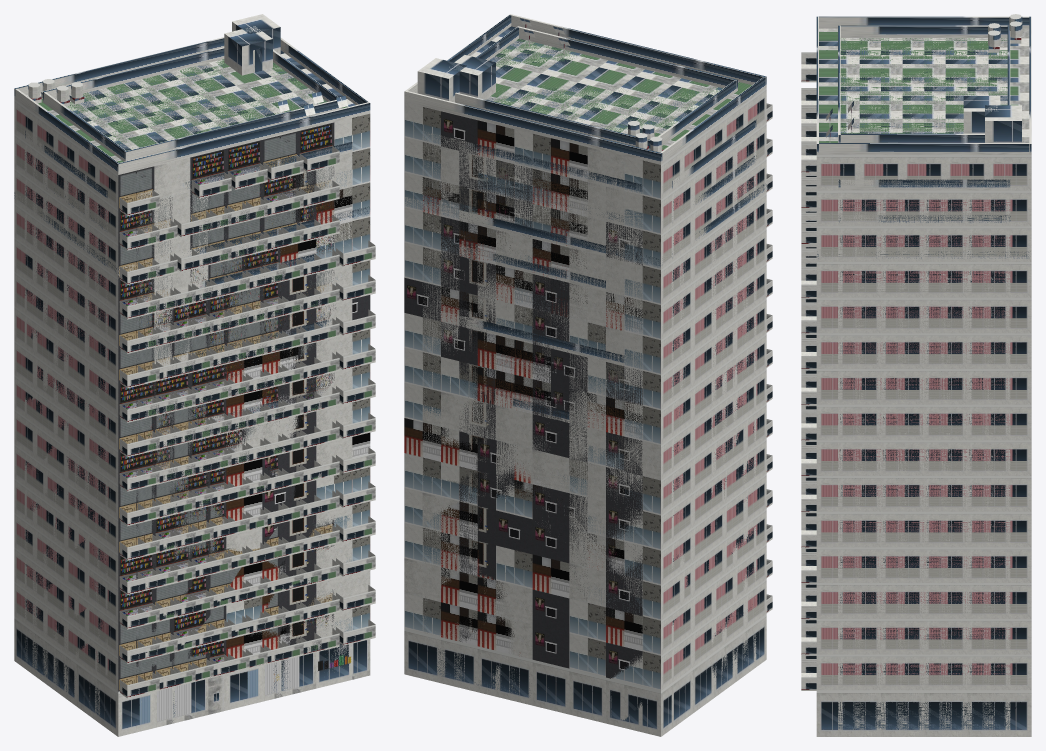
The picture shows the model from 3 angles, left to right: view 1: azimuth 30°, elevation 25°; view 2: azimuth 150°, elevation 25°; view 3: azimuth 270°, elevation 25°; orthographic projection. The views are drawn at different scales.
Parts seen in each view (by area): view 1: Modern_7x5_f15_v1, Modern_7x4_f14_v1, Modern_5x5_f9_v1, Modern_6x5_f14_v0, Modern_4x5_f11_v0, Modern_6x4_f15_v0, Modern_2x5_f7_v0, Modern_7x5_f12_v1, Modern_4x5_f12_v0, Modern_4x5_f14_v0, Modern_5x5_f12_v1; view 2: Modern_7x5_f15_v1, Modern_7x4_f14_v1, Modern_5x5_f9_v1, Modern_4x5_f11_v0, Modern_6x5_f14_v0, Modern_2x5_f7_v0, Modern_6x4_f15_v0, Modern_4x5_f14_v0, Modern_4x5_f12_v0, Modern_7x5_f12_v1, Modern_7x4_f13_v1; view 3: Modern_7x5_f15_v1, Modern_7x4_f14_v1, Modern_6x4_f15_v0, Modern_7x5_f12_v1, Modern_6x5_f14_v0, Modern_7x4_f13_v1.
Part boxes in pixels (bbox=[...]): Modern_7x5_f15_v1: bbox=[14, 14, 370, 736]; Modern_7x4_f14_v1: bbox=[24, 131, 107, 722]; Modern_5x5_f9_v1: bbox=[154, 320, 339, 727]; Modern_6x5_f14_v0: bbox=[136, 142, 352, 723]; Modern_4x5_f11_v0: bbox=[172, 254, 316, 723]; Modern_6x4_f15_v0: bbox=[42, 26, 341, 161]; Modern_2x5_f7_v0: bbox=[208, 400, 285, 714]; Modern_7x5_f12_v1: bbox=[14, 192, 375, 645]; Modern_4x5_f12_v0: bbox=[172, 219, 316, 297]; Modern_4x5_f14_v0: bbox=[172, 150, 316, 262]; Modern_5x5_f12_v1: bbox=[154, 216, 331, 379]; Modern_7x5_f15_v1: bbox=[404, 14, 772, 736]; Modern_7x4_f14_v1: bbox=[671, 119, 756, 728]; Modern_5x5_f9_v1: bbox=[441, 311, 624, 720]; Modern_4x5_f11_v0: bbox=[459, 245, 605, 723]; Modern_6x5_f14_v0: bbox=[422, 131, 642, 732]; Modern_2x5_f7_v0: bbox=[496, 394, 569, 714]; Modern_6x4_f15_v0: bbox=[449, 26, 737, 149]; Modern_4x5_f14_v0: bbox=[459, 144, 605, 255]; Modern_4x5_f12_v0: bbox=[459, 210, 605, 291]; Modern_7x5_f12_v1: bbox=[404, 184, 766, 269]; Modern_7x4_f13_v1: bbox=[672, 156, 756, 221]; Modern_7x5_f15_v1: bbox=[801, 14, 1031, 736]; Modern_7x4_f14_v1: bbox=[838, 179, 1010, 736]; Modern_6x4_f15_v0: bbox=[838, 23, 1010, 142]; Modern_7x5_f12_v1: bbox=[801, 251, 1030, 690]; Modern_6x5_f14_v0: bbox=[801, 173, 816, 658]; Modern_7x4_f13_v1: bbox=[838, 215, 1010, 226].
Size of the model in its own units: 24.5 by 54.9 by 18.75.
Materials: 1 (1 with a texture image).
